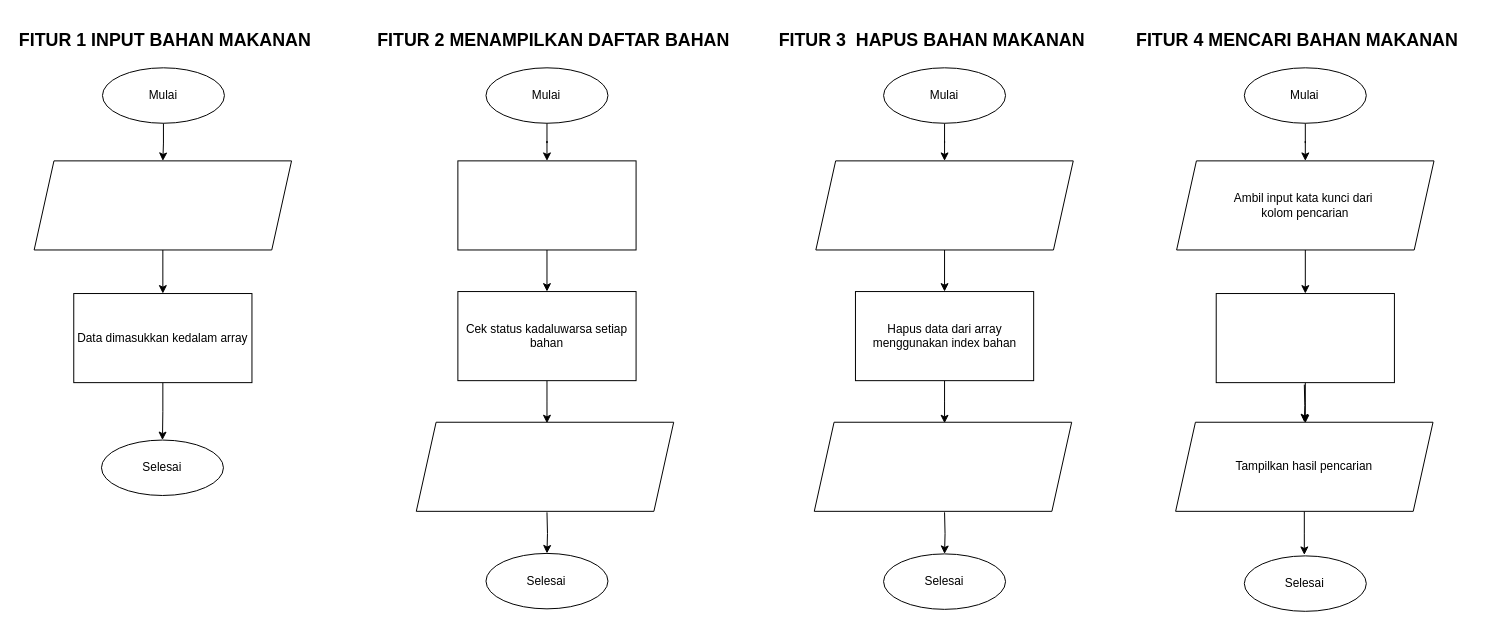
Image size: 1495x629. Some labels were removed from this diagram. The centre of each missing label's shape, as x and y in pixels:
Bandingkan kata kunci dengan nama bahan makanan di array: the point at 1304,338
Masukkan nama bahan makanan, tanggal kadaluwarsa, dan jumlah stok: the point at 162,205
Memilih bahan makanan yang ingin dihapus: the point at 944,205
Menampilkan daftar bahan dalam tabel: the point at 544,466
Menampilkan data terbaru tanpa bahan yang dihapus.: the point at 942,466
Mengambil daftar bahan makanan dari array: the point at 546,205
